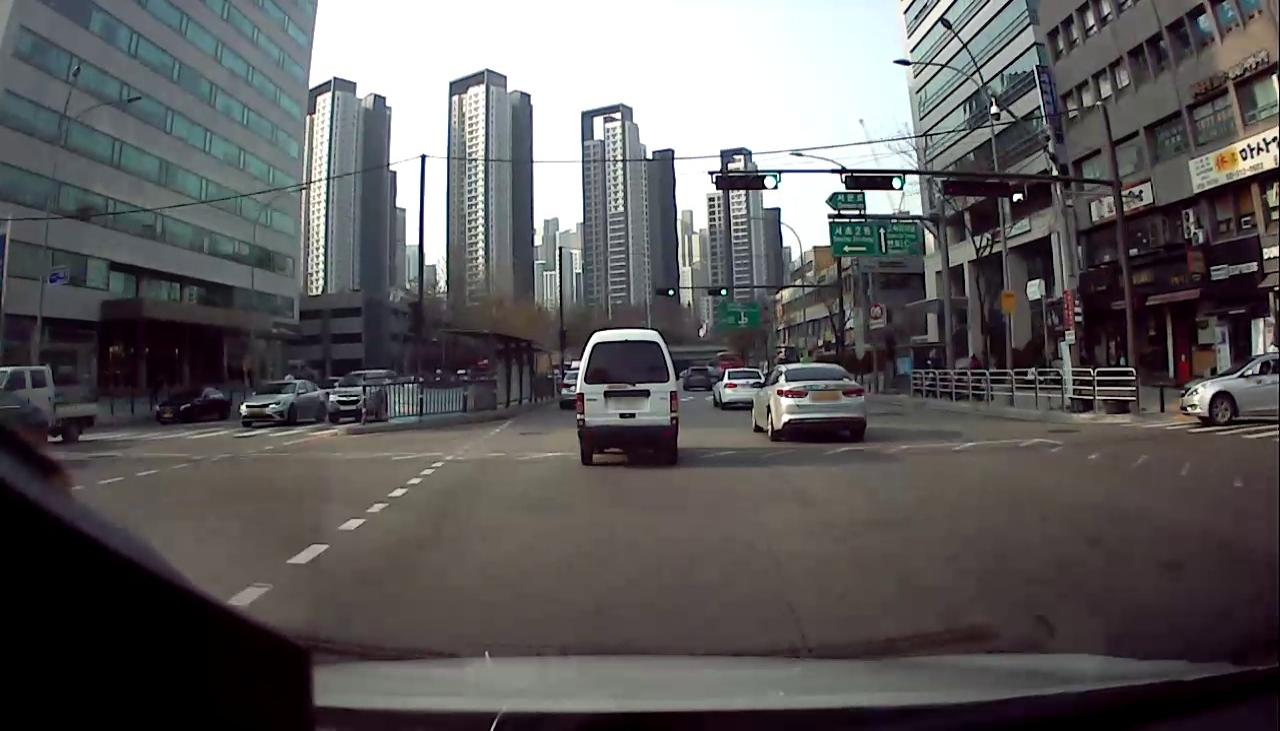Green Light: (762, 172, 778, 190), (888, 177, 902, 190), (666, 288, 675, 297), (720, 288, 727, 296)
